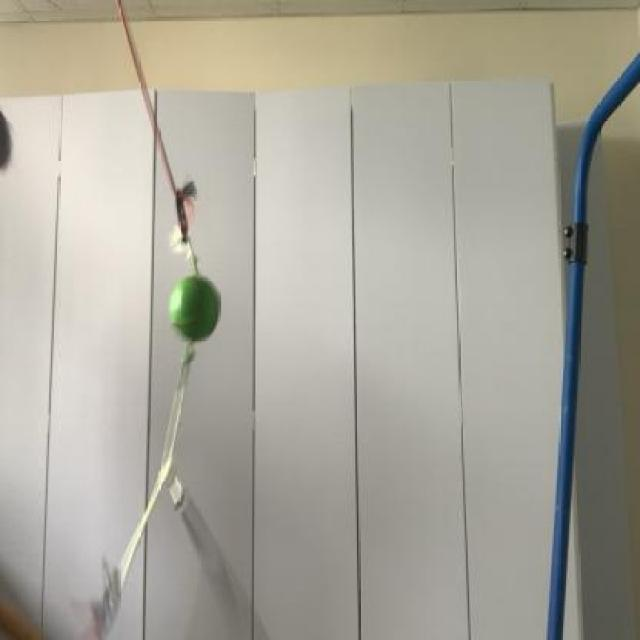baseball: (168, 268, 226, 344)
